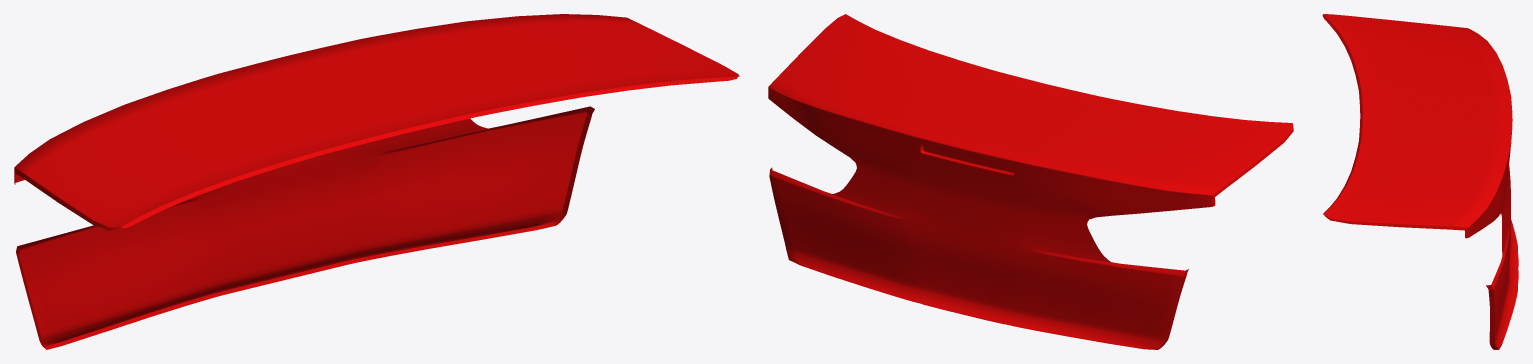
File: trunk.obj
The picture shows the model from 3 angles, left to right: view 1: azimuth 30°, elevation 25°; view 2: azimuth 150°, elevation 25°; view 3: azimuth 270°, elevation 25°; orthographic projection. The views are drawn at different scales.
Visible parts, largest first — view 1: Plano.009_Plano.016; view 2: Plano.009_Plano.016; view 3: Plano.009_Plano.016.
Part boxes in pixels (<box>): Plano.009_Plano.016: <box>14,14,739,349</box>; Plano.009_Plano.016: <box>768,14,1293,349</box>; Plano.009_Plano.016: <box>1322,14,1518,349</box>.
Size of the model in its own units: 1.68 by 0.5886 by 0.6759.
1 material, 1 textured.
